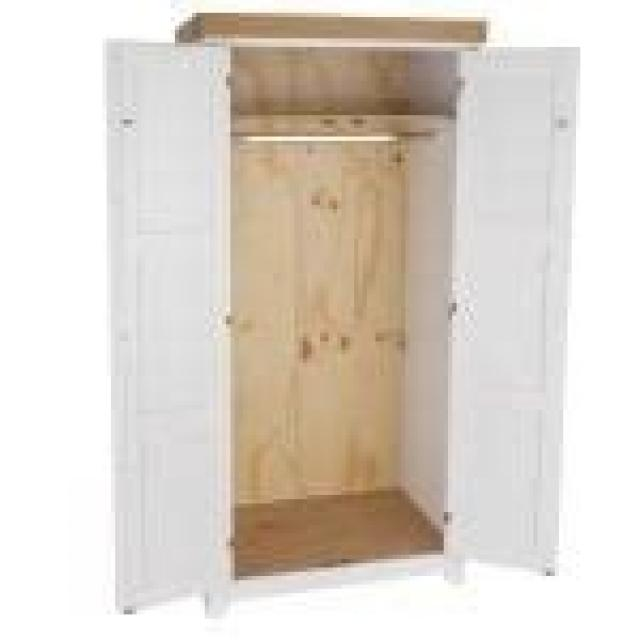Closet: (94, 8, 577, 625)
